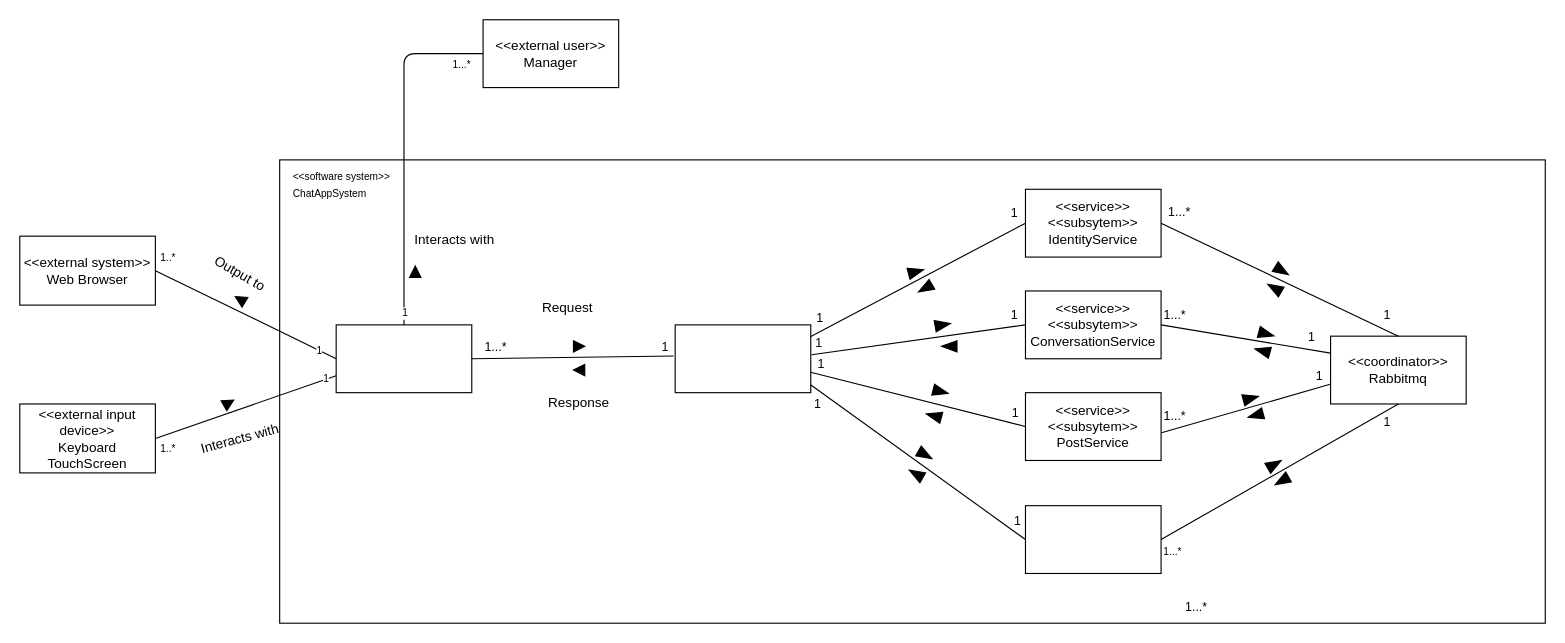
The diagram is 1565 pixels wide and 643 high, and some of its shapes have lost their labels. Each missing label, with the centre of its shape:
"<<client>> <<subsystem>> Client" goes at point (403, 358).
"<<coordinator>> ApiGatway" goes at point (742, 358).
"<<service>> <<subsytem>> UploadService" goes at point (1092, 539).
